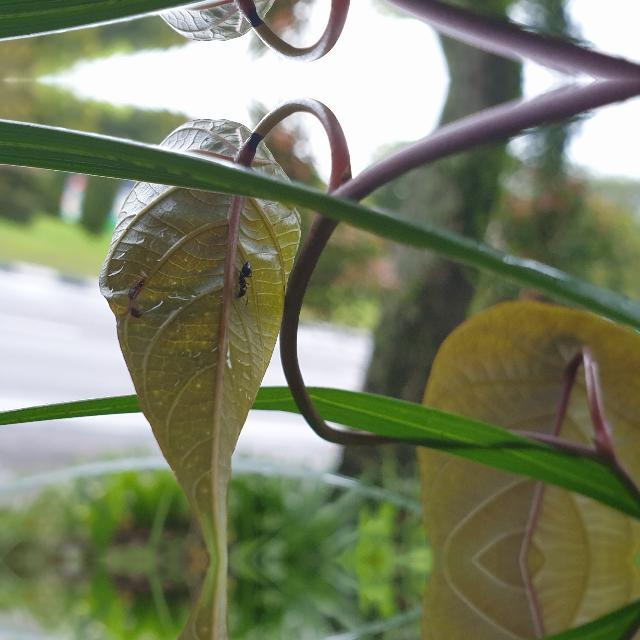Colobopsis: (226, 256, 260, 302)
